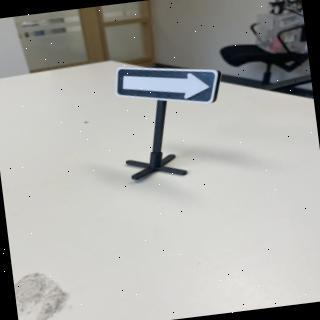sign_oneway_right: (113, 56, 227, 117)
